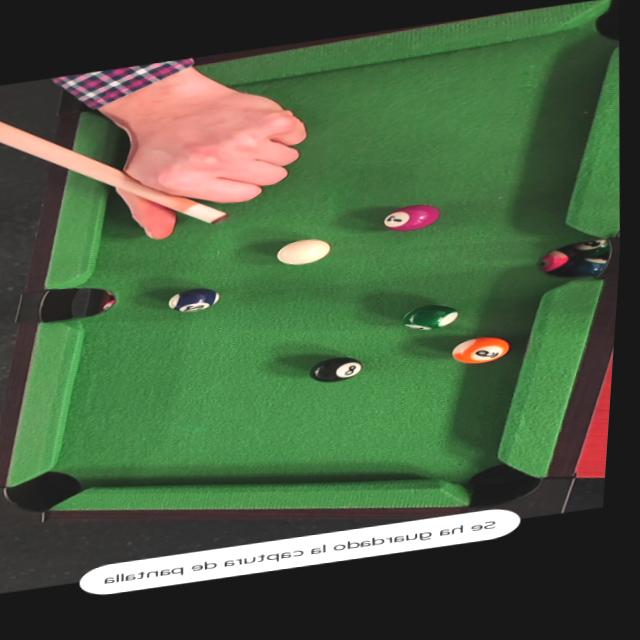cue ball: (263, 231, 339, 271)
other: (438, 327, 527, 371), (295, 351, 369, 389), (381, 197, 450, 235), (397, 298, 465, 336), (163, 279, 228, 317)
